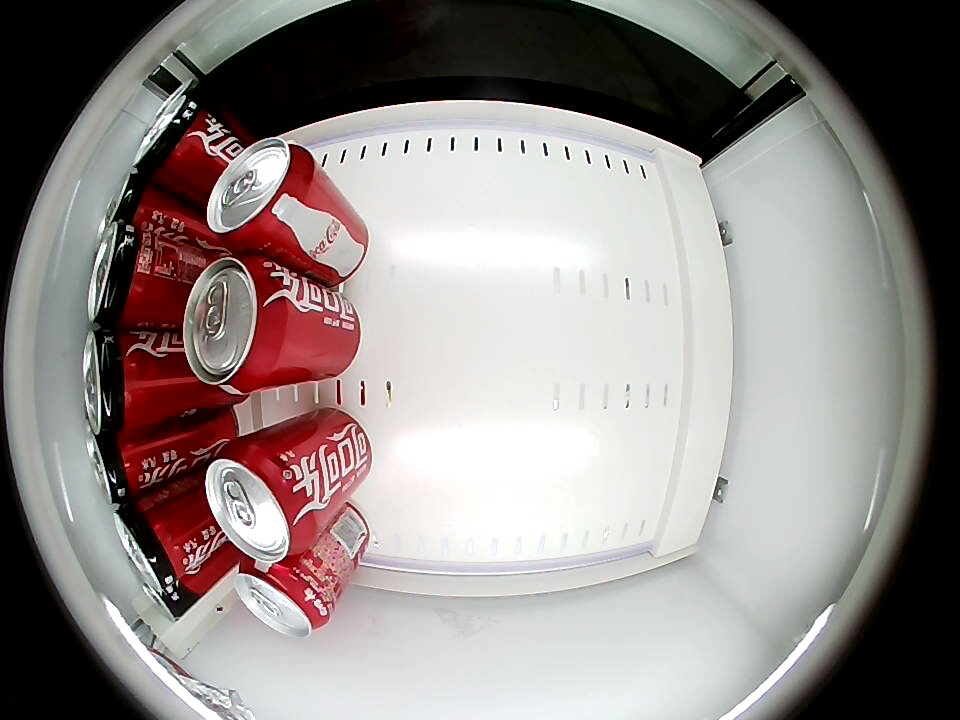kele: (180, 257, 290, 390), (205, 439, 318, 564), (206, 138, 319, 253), (233, 559, 333, 639)
lingdukele: (87, 222, 169, 329), (82, 329, 156, 434), (131, 90, 213, 184), (112, 501, 192, 592), (87, 427, 143, 504), (97, 167, 154, 238), (141, 579, 200, 622)
